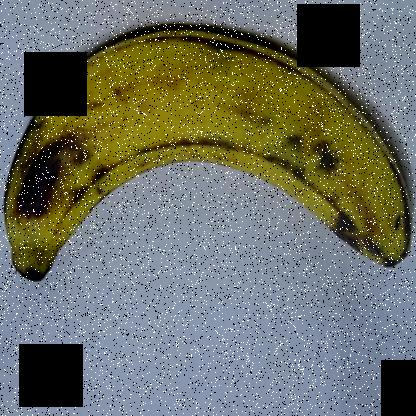ripe: (1, 8, 415, 309)
